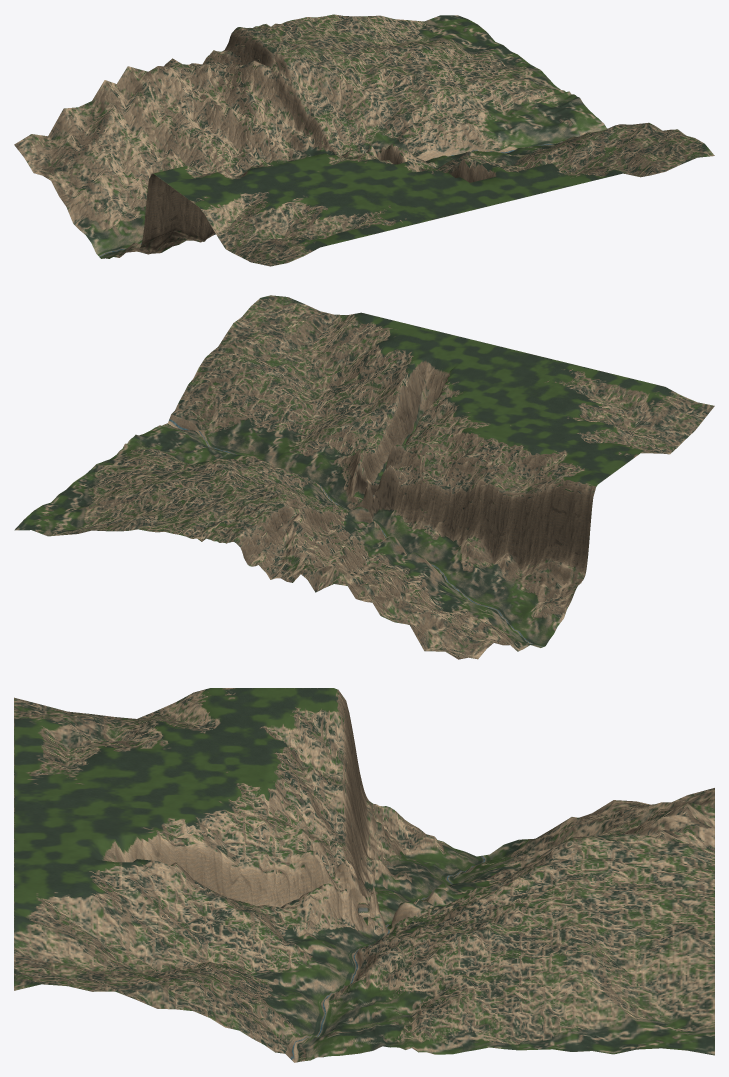
Rendered from Gorge_LOD2.fbx.
3 views of the same model, one above another, from view 1: azimuth 30°, elevation 25°; view 2: azimuth 150°, elevation 25°; view 3: azimuth 270°, elevation 25° (orthographic). The views are drawn at different scales.
Parts seen in each view (by area): view 1: Gorge_LOD2; view 2: Gorge_LOD2; view 3: Gorge_LOD2.
Part boxes in pixels (box(x1,y1,x2,y2)): Gorge_LOD2: box(14, 14, 714, 266); Gorge_LOD2: box(14, 295, 714, 659); Gorge_LOD2: box(14, 688, 714, 1062).
Size of the model in its own units: 256000 by 67891 by 256000.
1 material, 1 textured.
